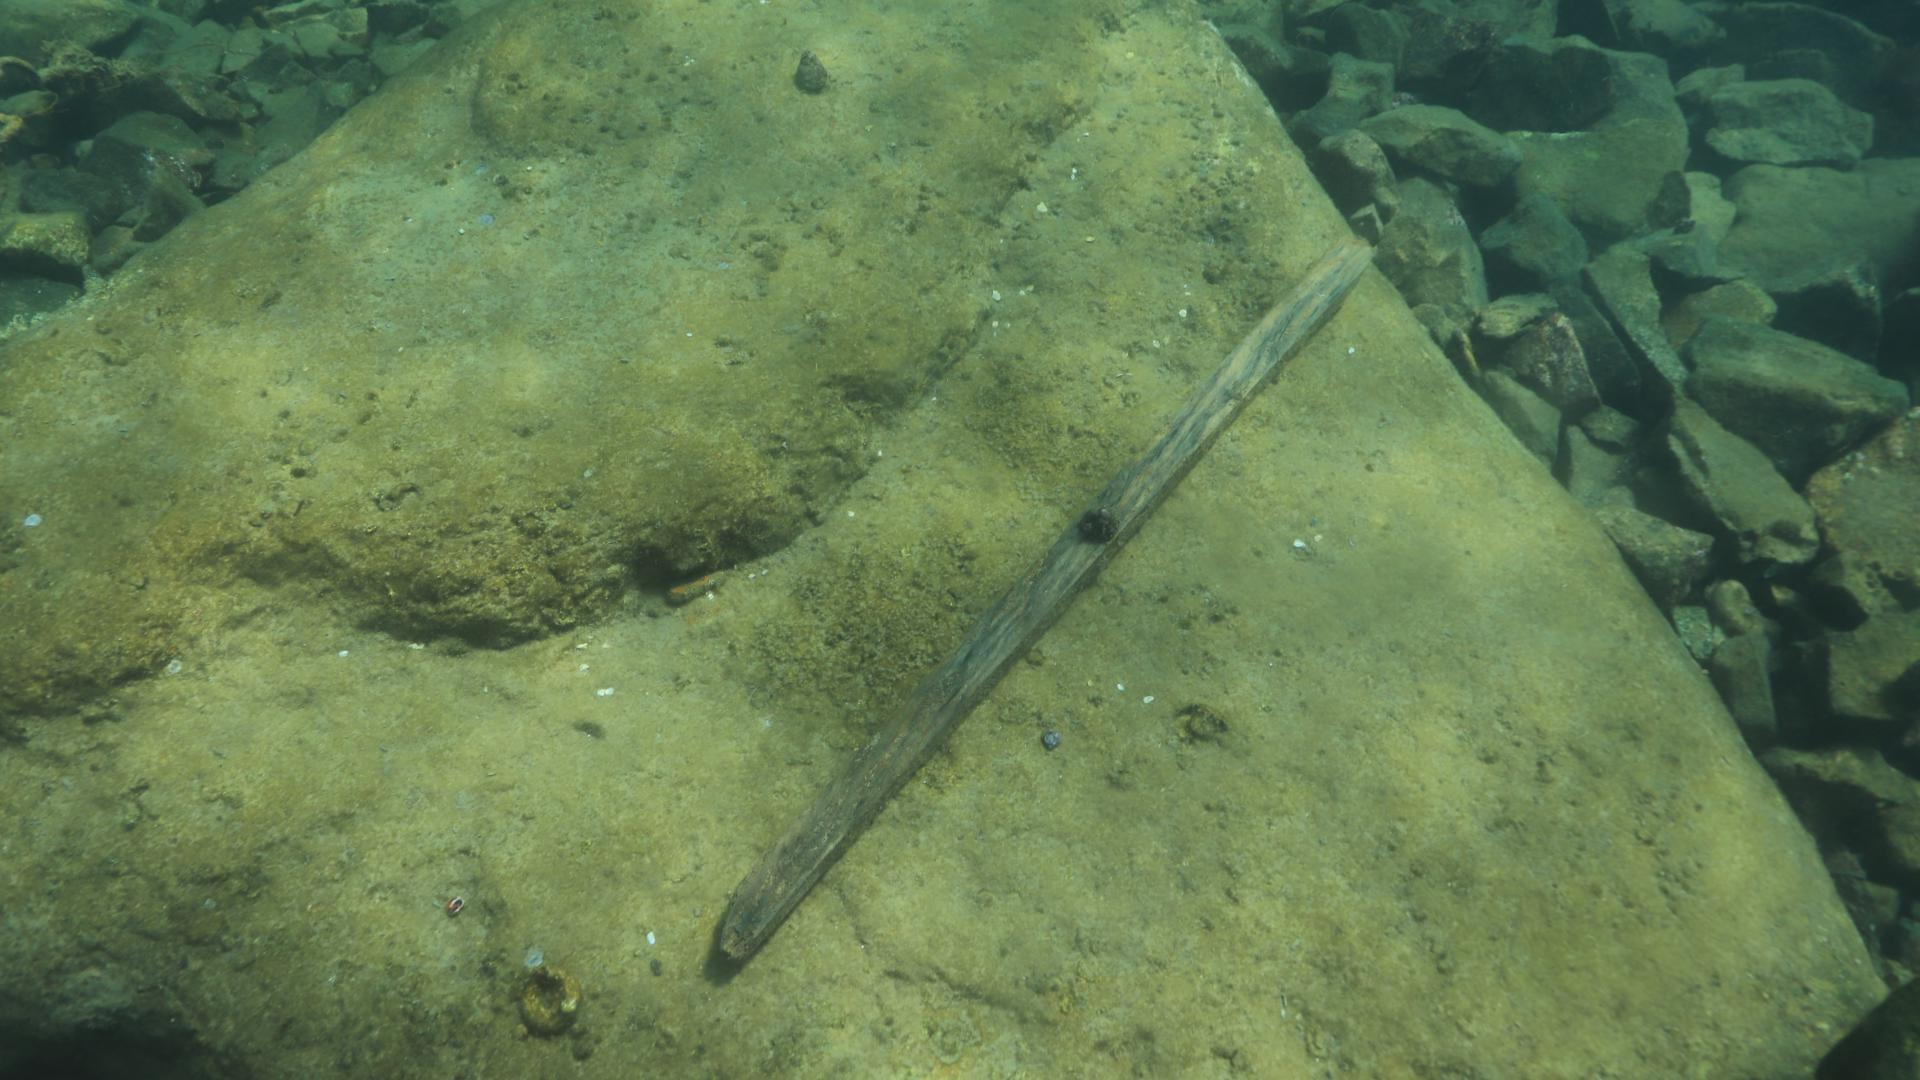wood: (713, 233, 1377, 967)
